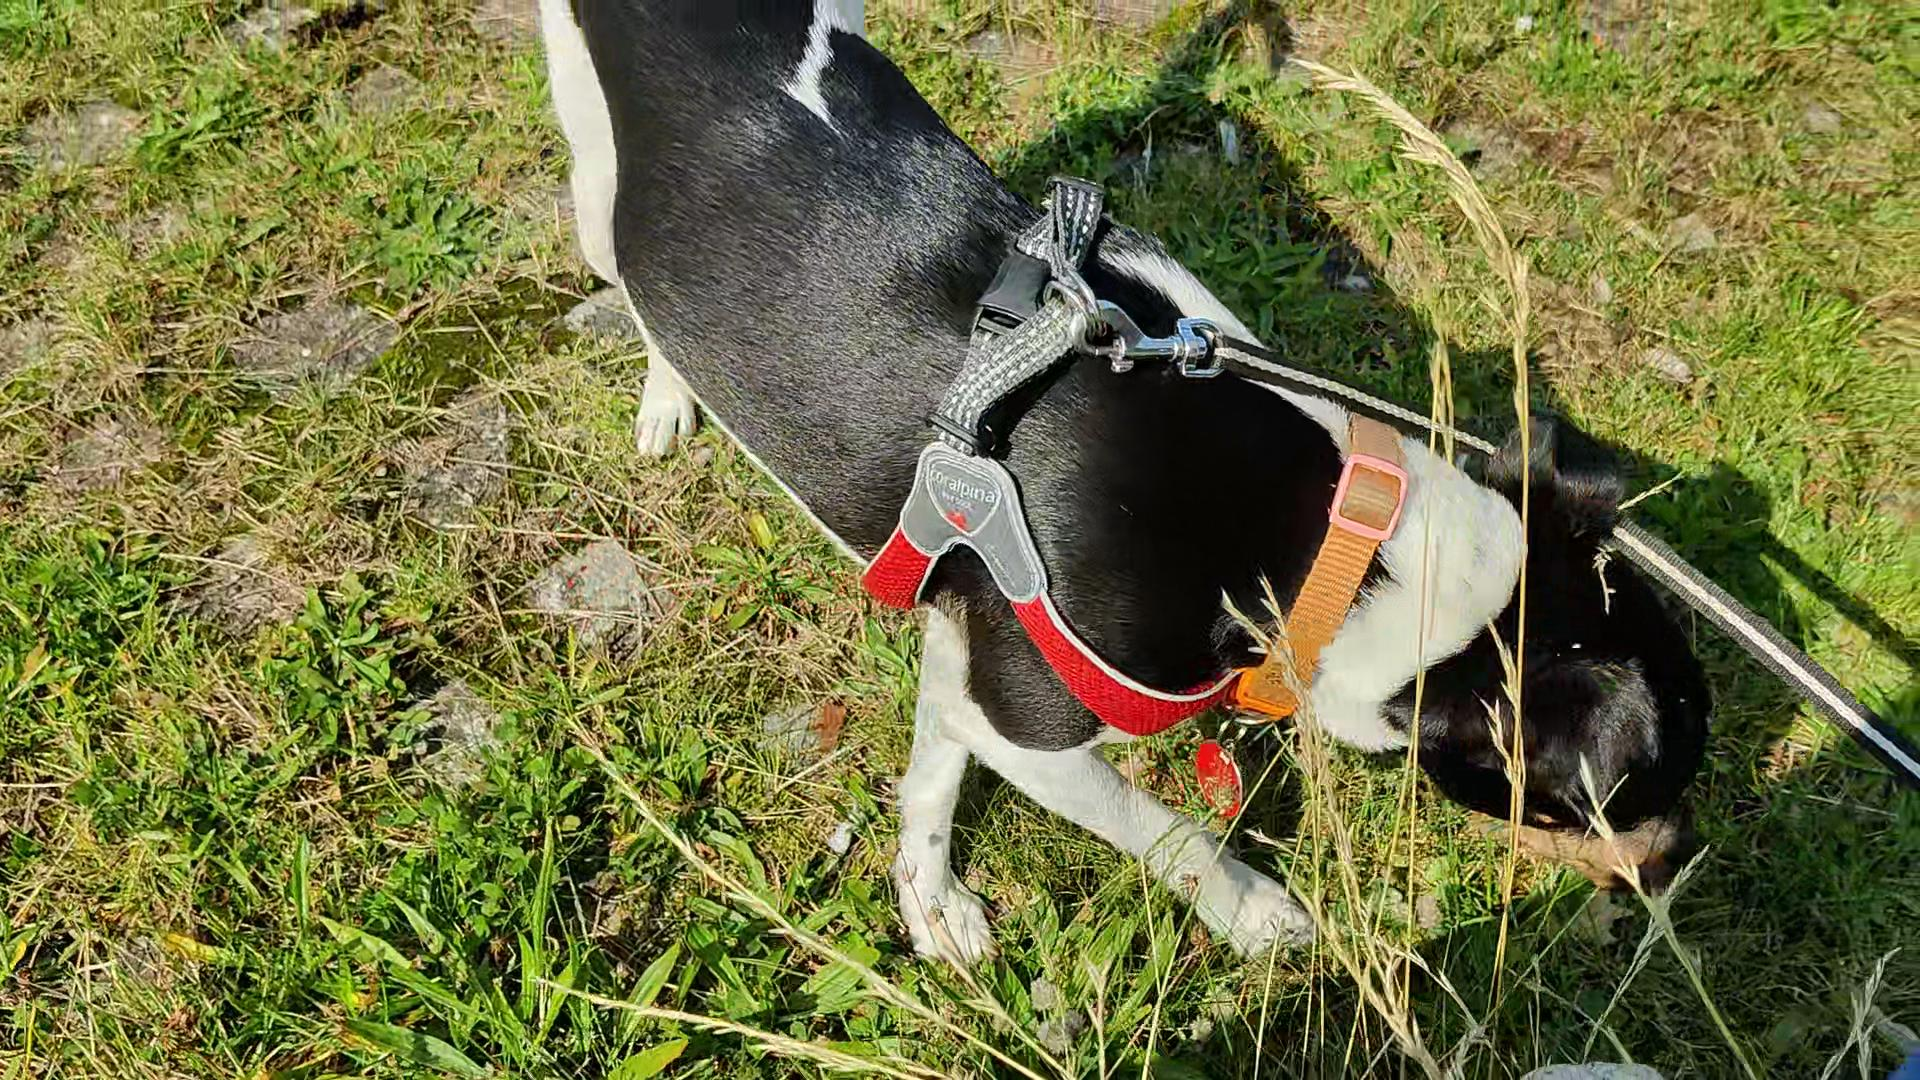Dog: (508, 0, 1775, 984)
